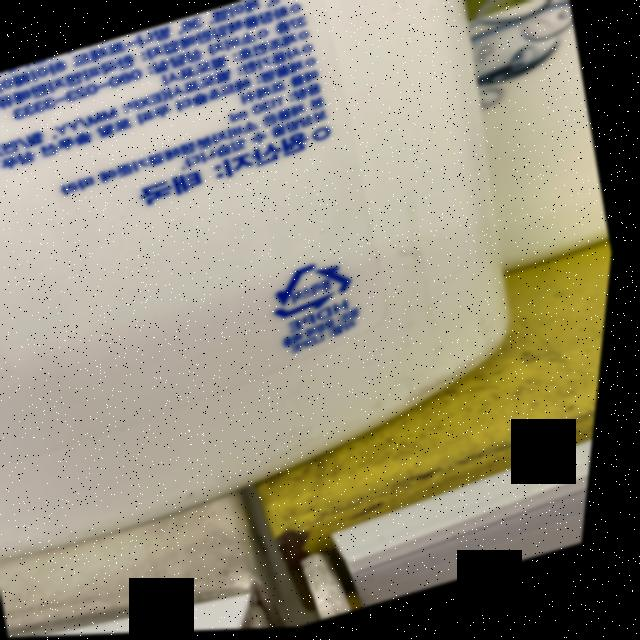Plastic: (265, 251, 368, 326)
